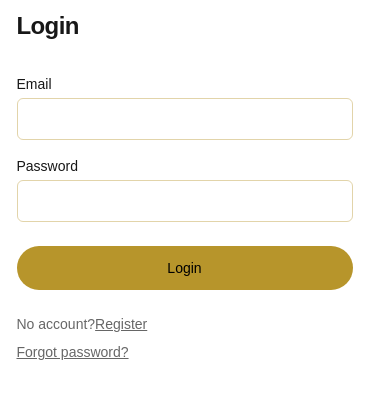
LoginPage › shows an error message and does not redirect on failure
The image size is (370, 413).
Type "ada@example.com" into the field labelled "Email" at point(184, 119), box [16, 98, 352, 140]
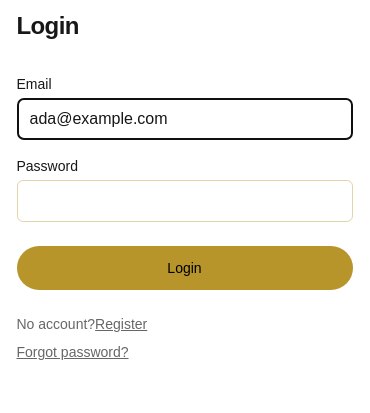
Type "wrongpass" into the password field labelled "Password" at point(184, 201), box [16, 180, 352, 222]
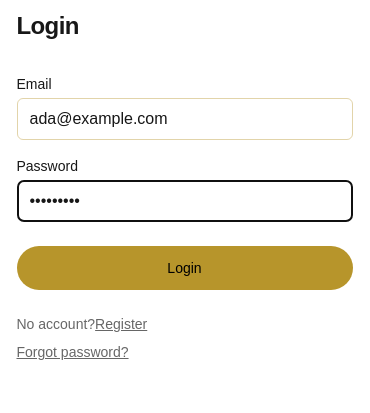
Click the button "Login" at point(184, 268), box [16, 246, 352, 290]
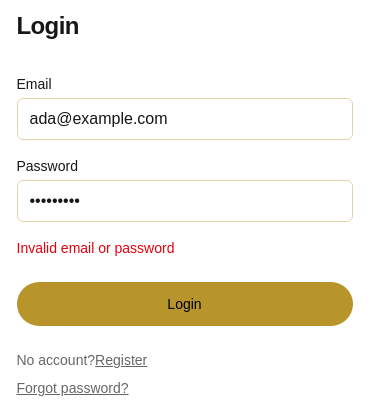
expect the text "Invalid email or password" is shown: met, box [16, 240, 174, 256]
